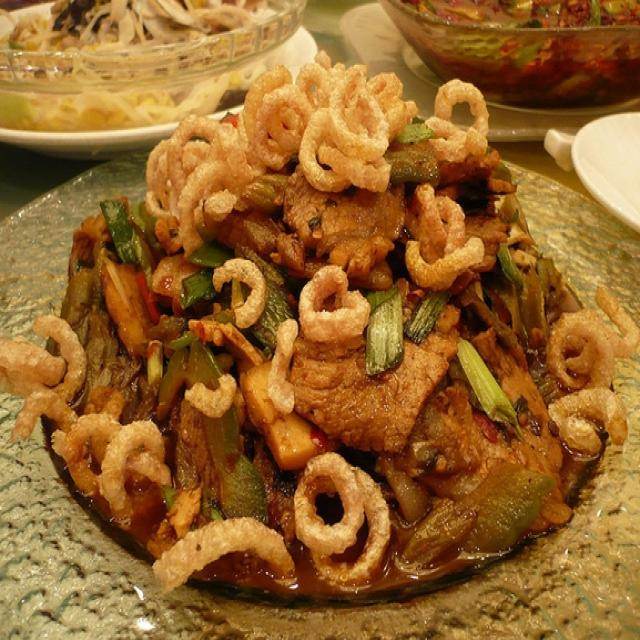猪肉菜式: (15, 18, 629, 621)
